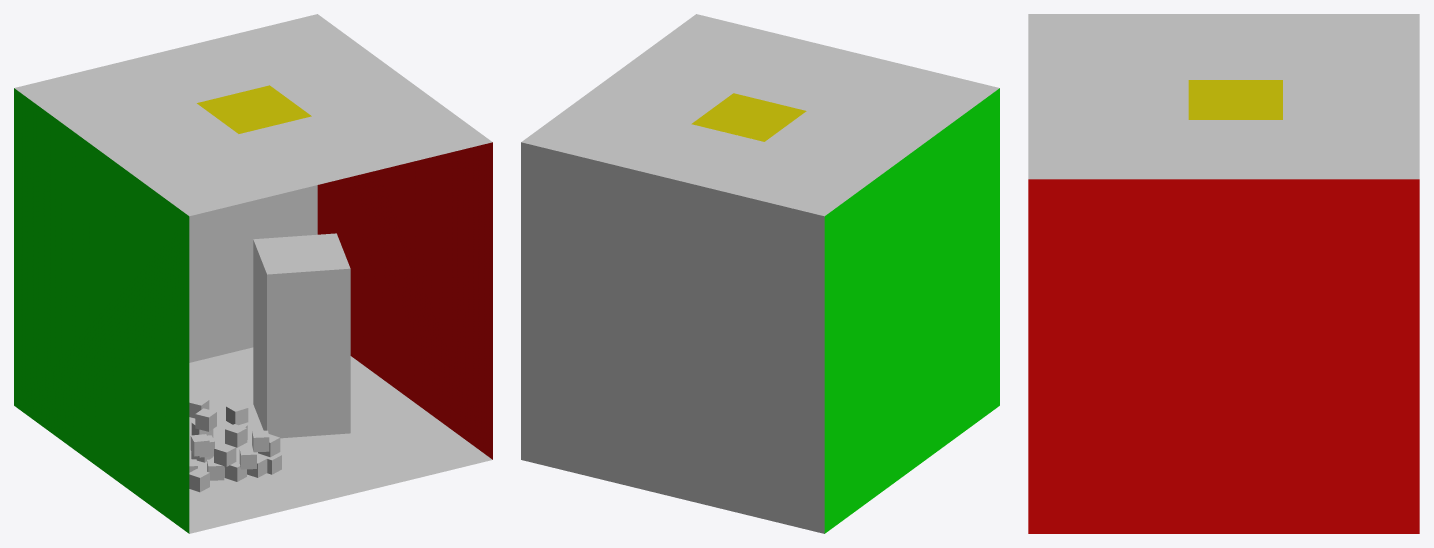
The model's file is cube_scene_pile.obj.
3 renders of one model, left to right at view 1: azimuth 30°, elevation 25°; view 2: azimuth 150°, elevation 25°; view 3: azimuth 270°, elevation 25°, orthographic. The views are drawn at different scales.
Visible parts, largest first — view 1: Plane.001, Plane.004, Plane.002, Plane, Cube.002, Plane.003, Cube.003, Plane.005_Plane.006; view 2: Plane.003, Plane.001, Plane.004, Plane.005_Plane.006; view 3: Plane.002, Plane.004, Plane.005_Plane.006.
Part boxes in pixels (x1,y1,x2,y2): Plane.001: [14, 88, 189, 533]; Plane.004: [14, 14, 492, 216]; Plane.002: [317, 142, 492, 459]; Plane: [189, 347, 492, 533]; Cube.002: [253, 233, 350, 438]; Plane.003: [189, 185, 317, 362]; Cube.003: [189, 396, 281, 492]; Plane.005_Plane.006: [197, 85, 311, 133]; Plane.003: [521, 142, 824, 533]; Plane.001: [824, 88, 999, 533]; Plane.004: [521, 14, 999, 216]; Plane.005_Plane.006: [691, 93, 806, 141]; Plane.002: [1028, 179, 1419, 533]; Plane.004: [1028, 14, 1419, 179]; Plane.005_Plane.006: [1188, 80, 1282, 119].
Size of the model in its own units: 8.28 by 8.28 by 8.28.
